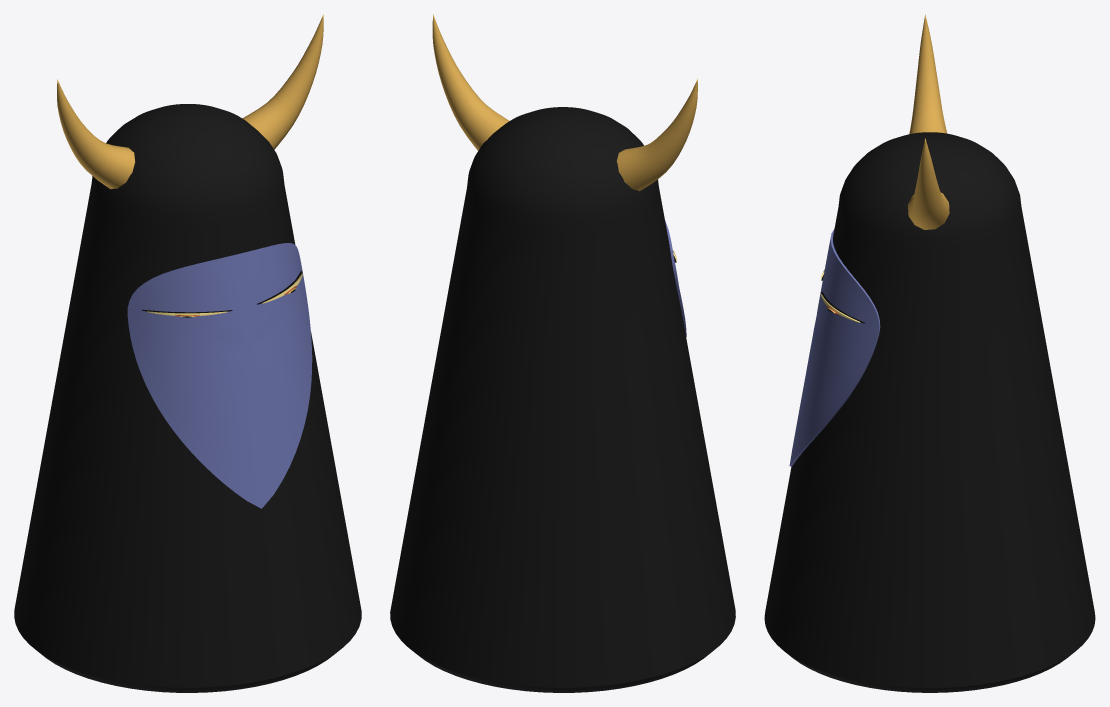
Rendered from fig1_rogatyi.glb.
The picture shows the model from 3 angles, left to right: view 1: azimuth 30°, elevation 25°; view 2: azimuth 150°, elevation 25°; view 3: azimuth 270°, elevation 25°; orthographic projection. The views are drawn at different scales.
Visible parts, largest first — view 1: fig1_rogatyi; view 2: fig1_rogatyi; view 3: fig1_rogatyi.
Boxes of the visible parts, left/top/right/bottom form: fig1_rogatyi: left=14, top=14, right=361, bottom=692; fig1_rogatyi: left=390, top=14, right=735, bottom=692; fig1_rogatyi: left=764, top=14, right=1095, bottom=692.
Bounding box in the file's own units: 1.98 × 3.64 × 1.98.
1 material, 1 textured.
